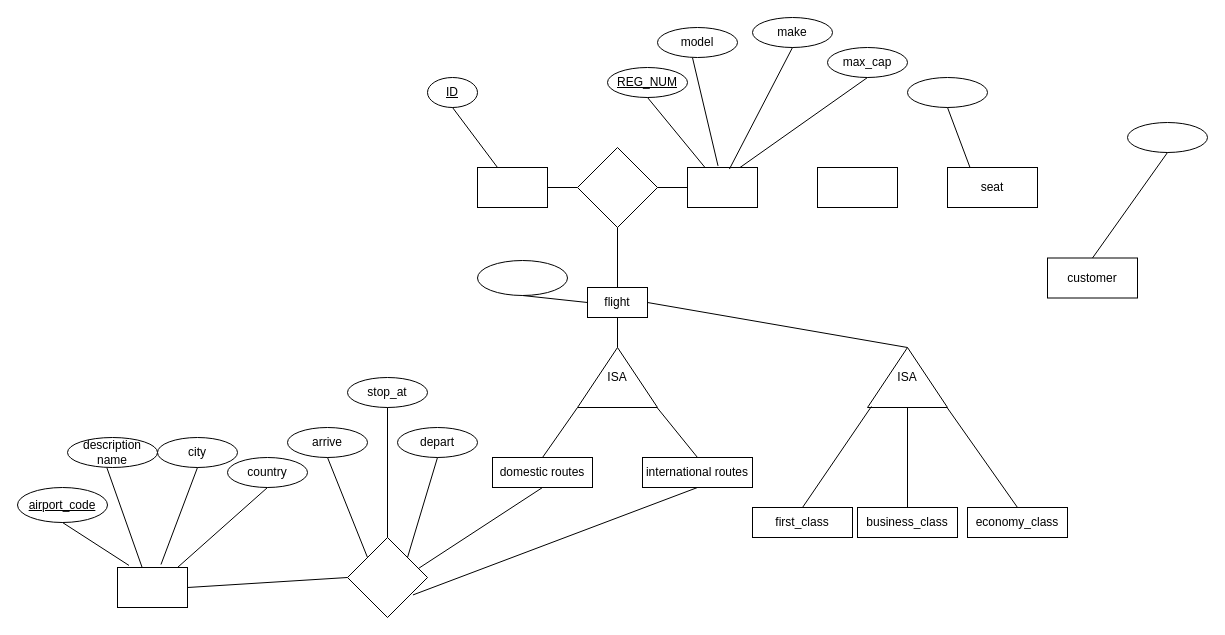
Some shapes in this 1225 by 635 pixel diagram are drawn without their labels. Each missing label, with the centre of its shape:
"aircraft" belongs at [722,187].
"airport" belongs at [152,587].
"company" belongs at [512,187].
"flight_num" belongs at [522,278].
"identifier" belongs at [1167,137].
"jounery" belongs at [387,577].
"own" belongs at [617,187].
"reservation" belongs at [857,187].
"seat_id" belongs at [947,92].
